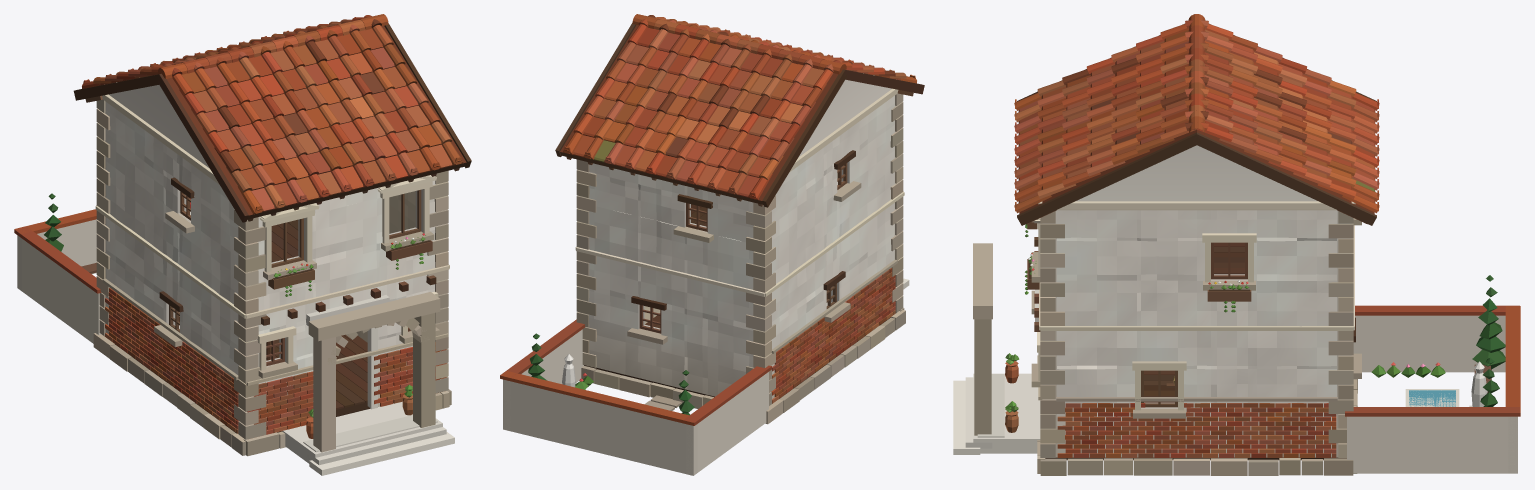
Rendered from patrician_3_2.glb.
3 renders of one model, left to right at view 1: azimuth 30°, elevation 25°; view 2: azimuth 150°, elevation 25°; view 3: azimuth 270°, elevation 25°, orthographic. The views are drawn at different scales.
Visible parts, largest first — view 1: House, Walls, Rooms; view 2: House, Walls, Rooms; view 3: House, Walls, Rooms.
Boxes of the visible parts, <box> form: House: <box>14,14,471,475</box>; Walls: <box>105,85,445,430</box>; Rooms: <box>179,191,415,409</box>; House: <box>500,14,924,475</box>; Walls: <box>579,79,895,398</box>; Rooms: <box>644,173,837,328</box>; House: <box>953,14,1520,475</box>; Walls: <box>1042,145,1351,457</box>; Rooms: <box>1144,242,1244,402</box>.
Bounding box in the file's own units: 4.11 × 5.76 × 8.43.
3 materials, 3 textured.
